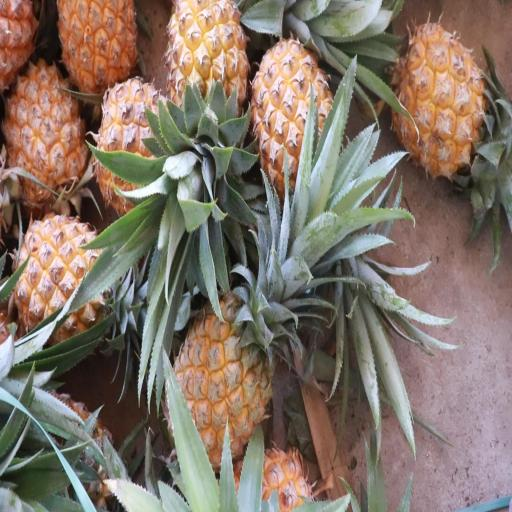Pineapple - v8 v1: (162, 286, 296, 479), (247, 35, 348, 222), (385, 12, 489, 193), (12, 206, 128, 364), (162, 0, 255, 197), (94, 74, 196, 243), (0, 50, 94, 224), (53, 0, 143, 115)
